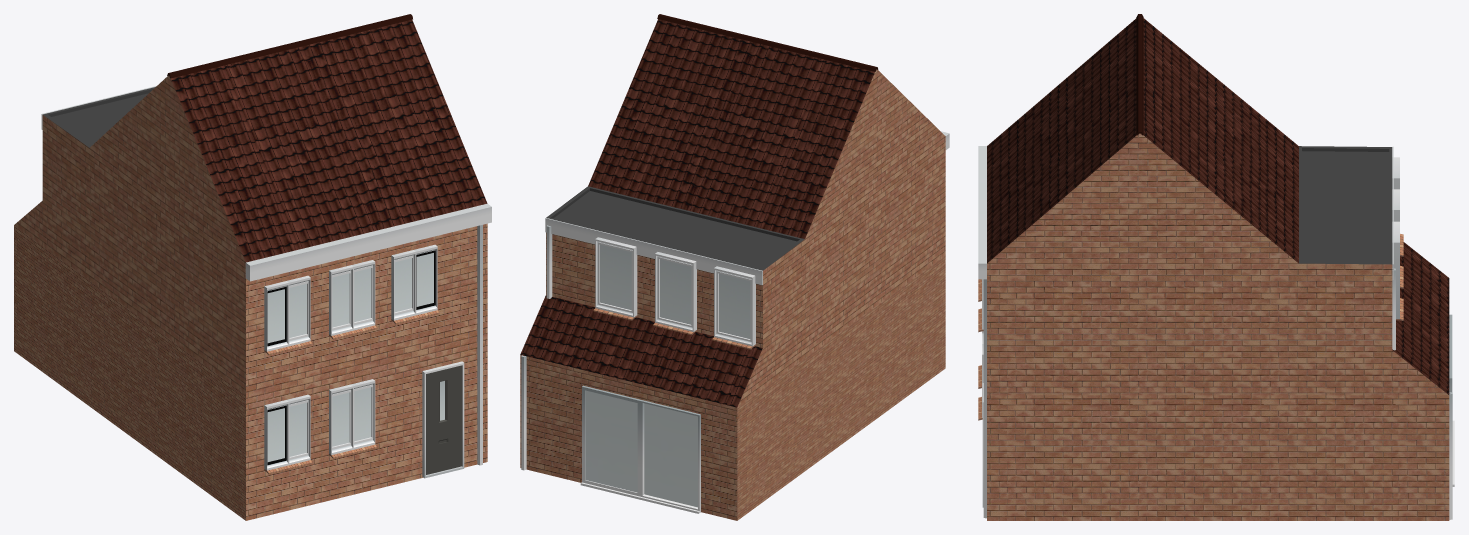
The model's file is Buorkerij_55.fbx.
3 renders of one model, left to right at view 1: azimuth 30°, elevation 25°; view 2: azimuth 150°, elevation 25°; view 3: azimuth 270°, elevation 25°, orthographic. The views are drawn at different scales.
Parts seen in each view (by area): view 1: Buorkerij_55; view 2: Buorkerij_55; view 3: Buorkerij_55.
Boxes of the visible parts, <box> form: Buorkerij_55: <box>14,14,491,520</box>; Buorkerij_55: <box>520,14,949,520</box>; Buorkerij_55: <box>978,14,1454,520</box>.
Size of the model in its own units: 572 by 882 by 977.
